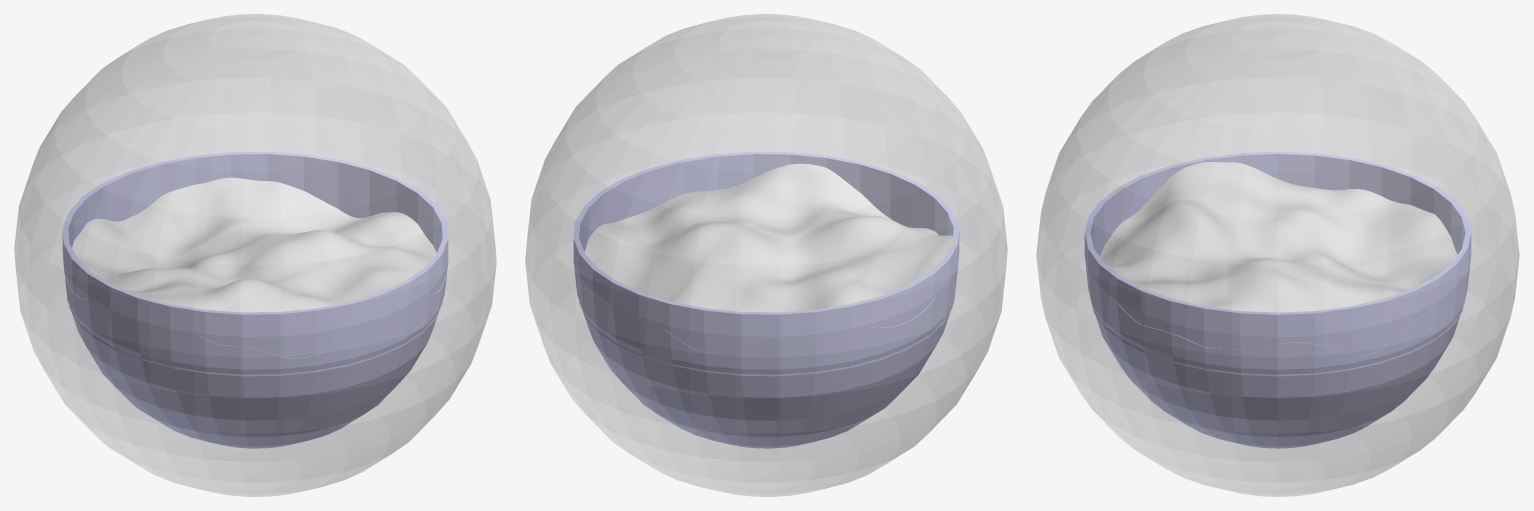
The model's file is table2.glb.
The picture shows the model from 3 angles, left to right: view 1: azimuth 30°, elevation 25°; view 2: azimuth 150°, elevation 25°; view 3: azimuth 270°, elevation 25°; orthographic projection.
Visible parts, largest first — view 1: Sphere.002, Sphere, Plane; view 2: Sphere.002, Sphere, Plane; view 3: Sphere.002, Sphere, Plane.
Boxes of the visible parts, x1=… form: Sphere.002: x1=14, y1=14, x2=496, y2=496; Sphere: x1=62, y1=151, x2=448, y2=448; Plane: x1=62, y1=177, x2=447, y2=358; Sphere.002: x1=525, y1=14, x2=1007, y2=496; Sphere: x1=573, y1=151, x2=959, y2=448; Plane: x1=576, y1=163, x2=952, y2=353; Sphere.002: x1=1036, y1=14, x2=1519, y2=496; Sphere: x1=1084, y1=151, x2=1471, y2=448; Plane: x1=1099, y1=162, x2=1470, y2=355.
Bounding box in the file's own units: 2 × 2 × 2.
